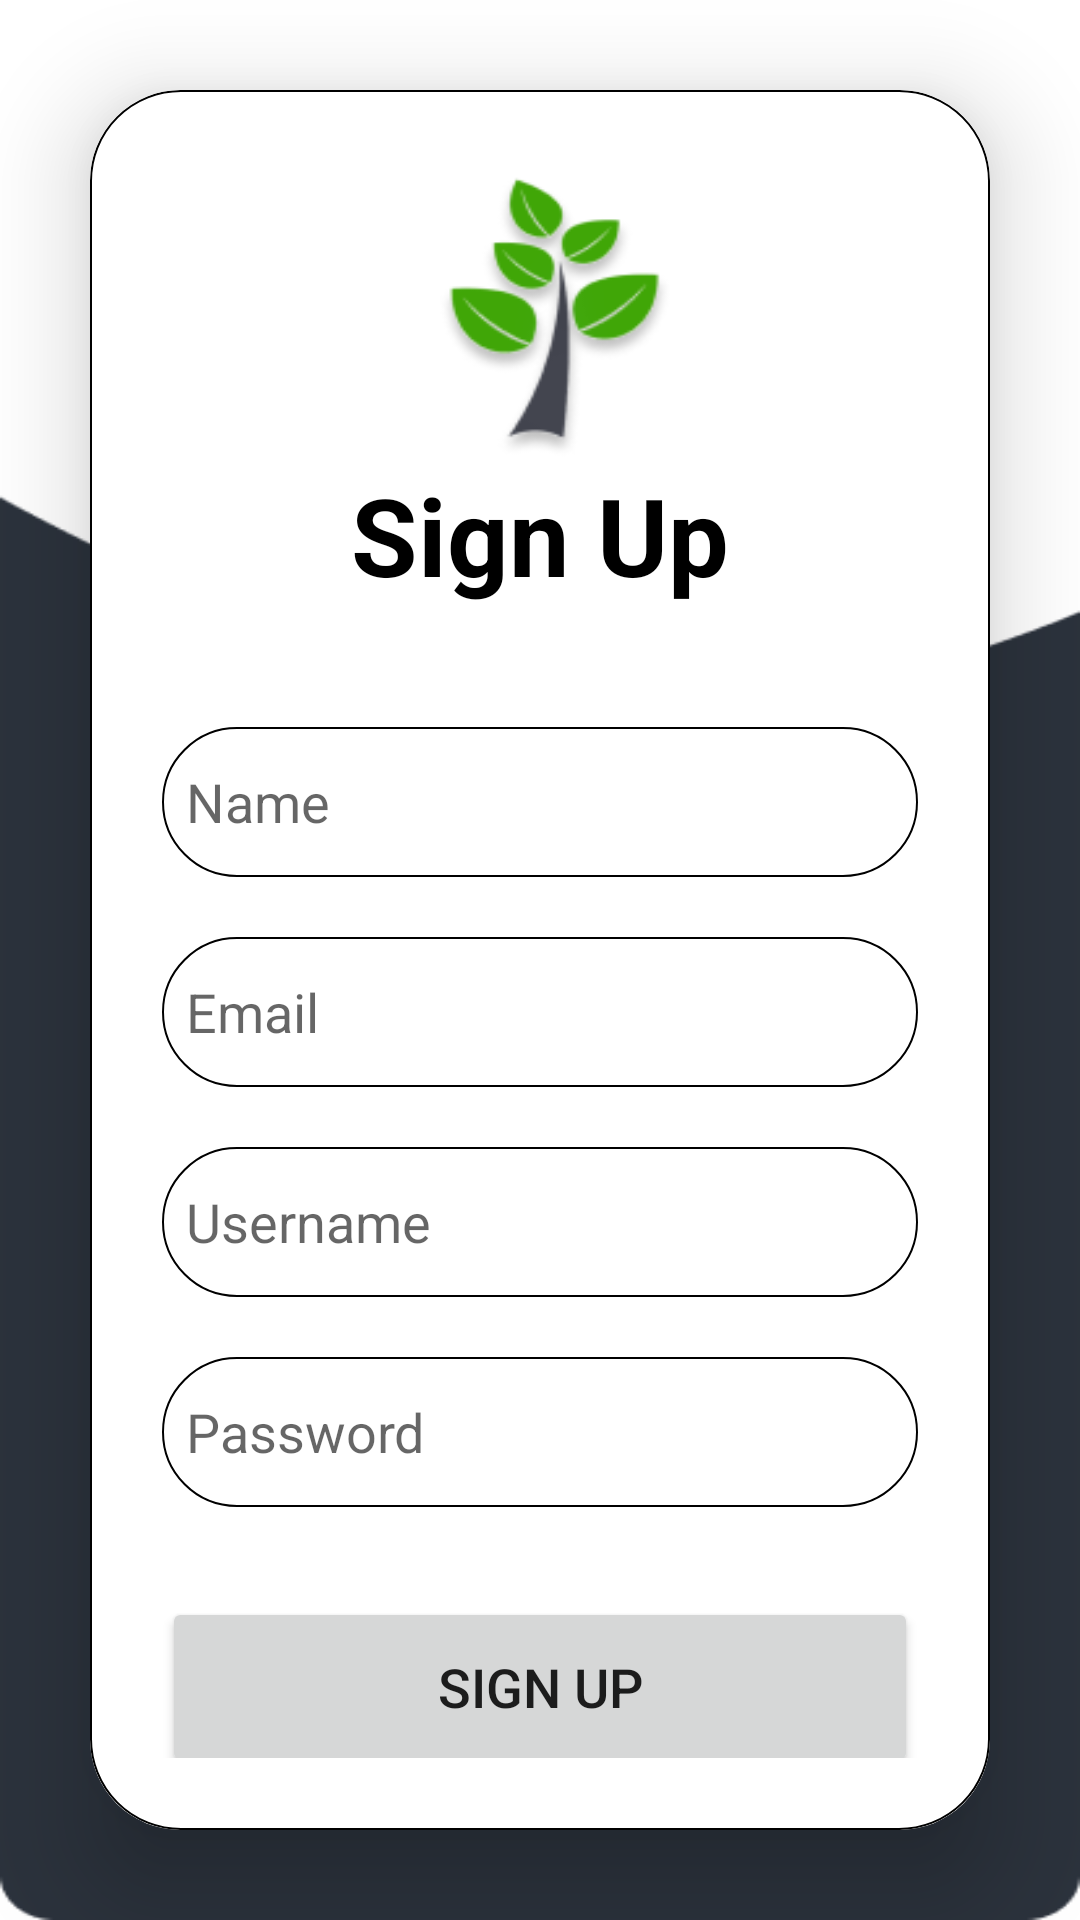

Named icons in this screenshot (1080px×1920px) and their centers, point (x, y):
tree: point (554, 312)
